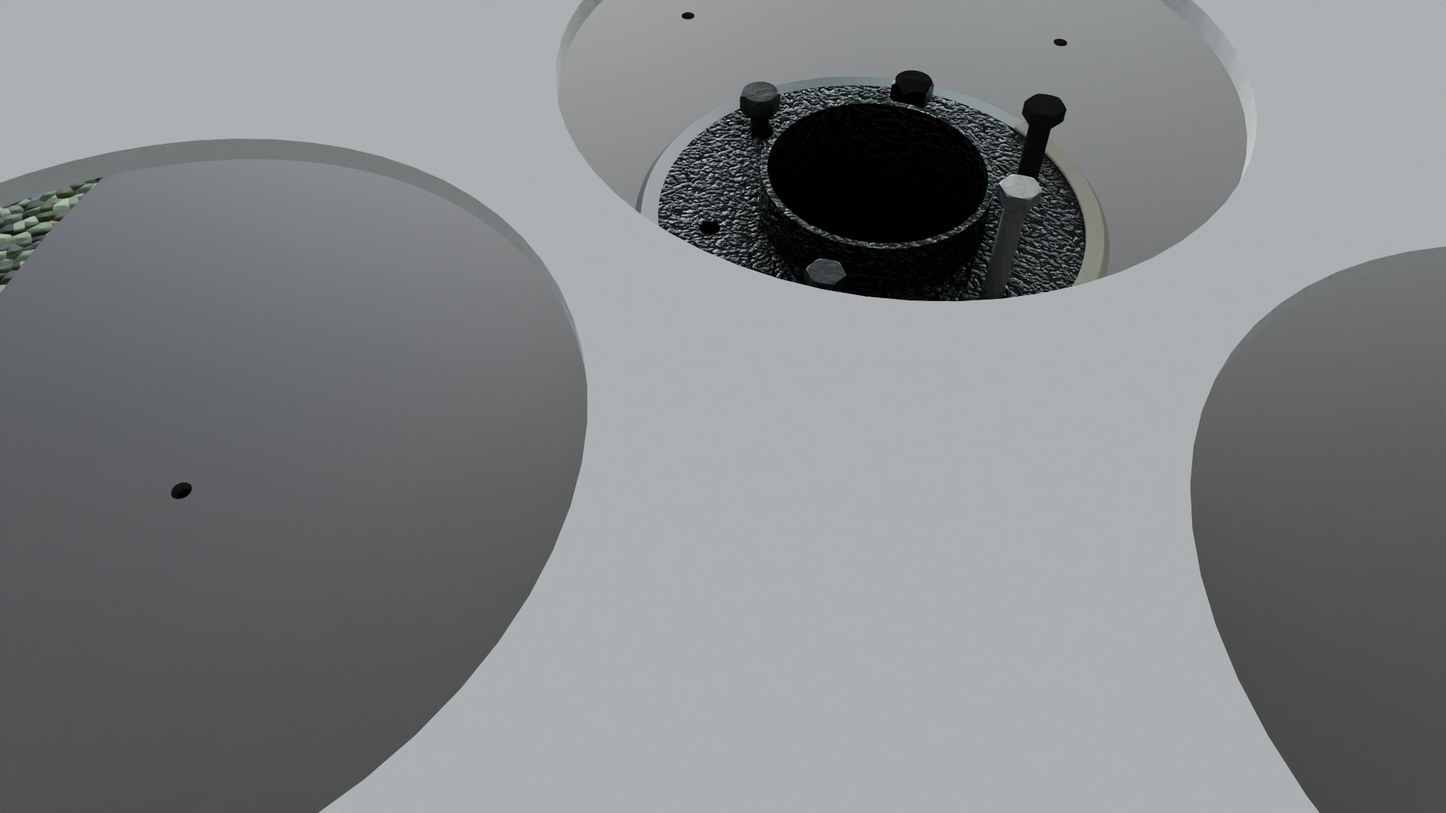bolt: (999, 175, 1042, 201), (806, 259, 847, 286), (892, 70, 935, 95), (740, 81, 780, 106), (1025, 93, 1066, 117)
